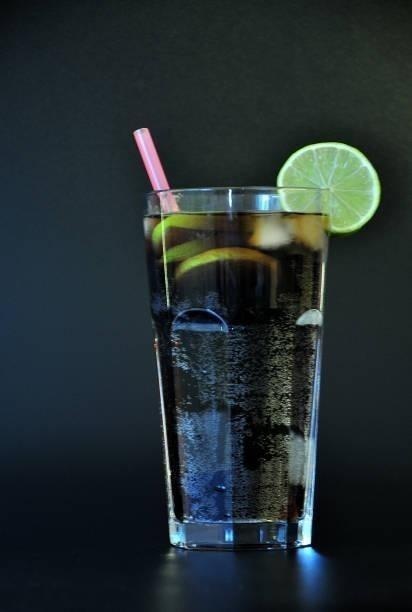glass-normal: (138, 184, 333, 553)
